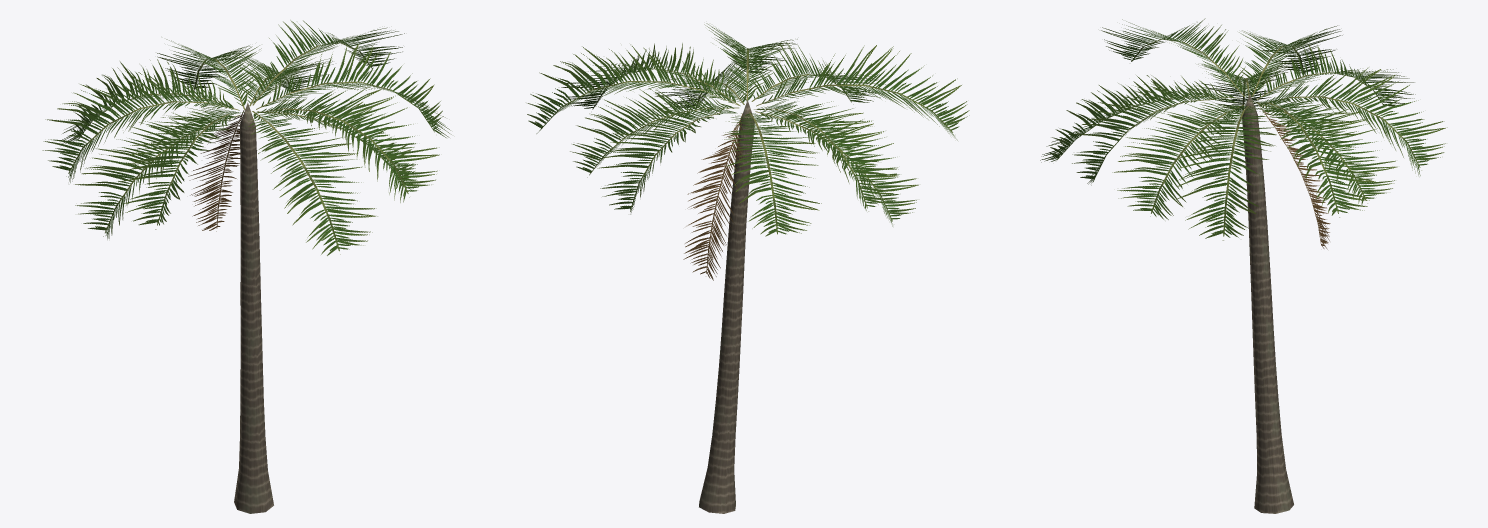
Rendered from palm_tree_03_lod1.glb.
3 renders of one model, left to right at view 1: azimuth 30°, elevation 25°; view 2: azimuth 150°, elevation 25°; view 3: azimuth 270°, elevation 25°, orthographic. The views are drawn at different scales.
Parts seen in each view (by area): view 1: palm_tree_03_lod1; view 2: palm_tree_03_lod1; view 3: palm_tree_03_lod1.
Part boxes in pixels (<box>): palm_tree_03_lod1: <box>42,20,451,513</box>; palm_tree_03_lod1: <box>527,23,969,513</box>; palm_tree_03_lod1: <box>1040,18,1447,513</box>.
Size of the model in its own units: 6.44 by 6.88 by 6.37.
Materials: 2 (2 with a texture image).
